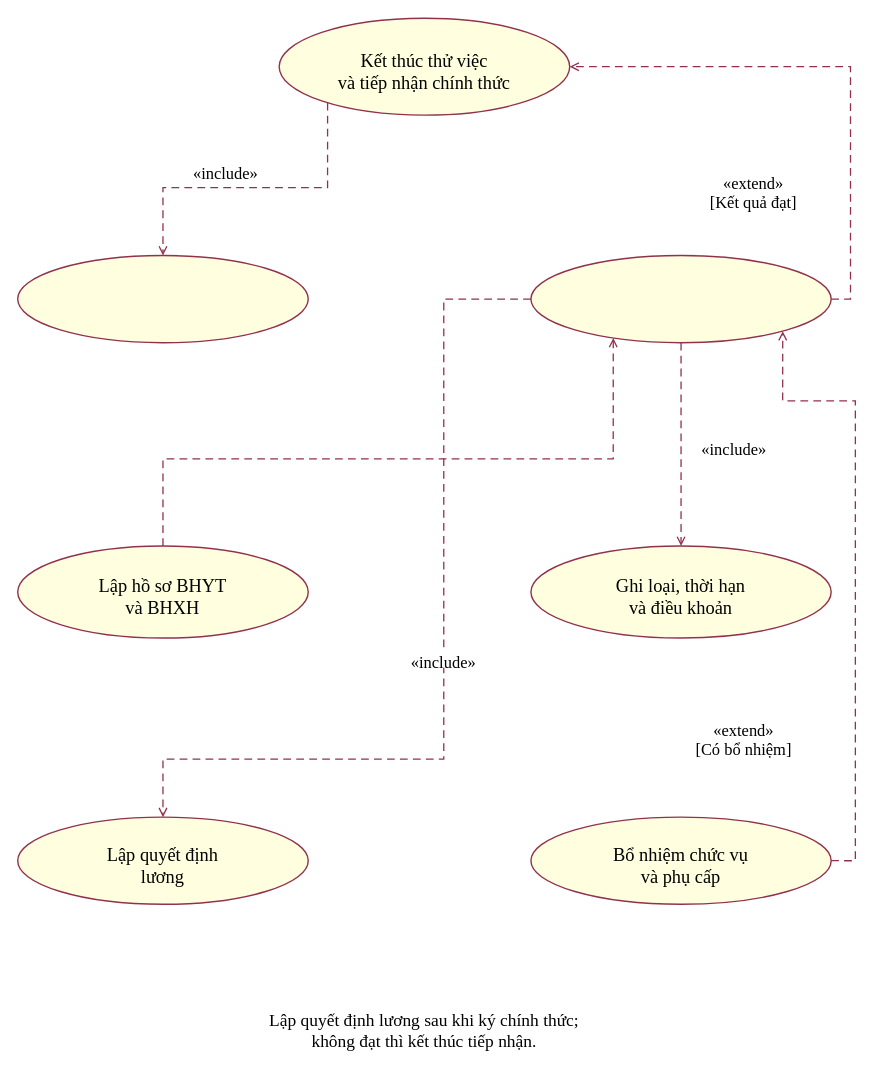
Some shapes in this 873 by 1069 pixel diagram are drawn without their labels. The box of each missing label's shape, as (x1, y1, x2, y2) in pixels:
Ký hợp đồng chính thức: (530, 254, 831, 343)
«extend» [Hợp đồng dài hạn]: (230, 415, 404, 455)
Đánh giá kết quả thử việc: (17, 254, 308, 343)
